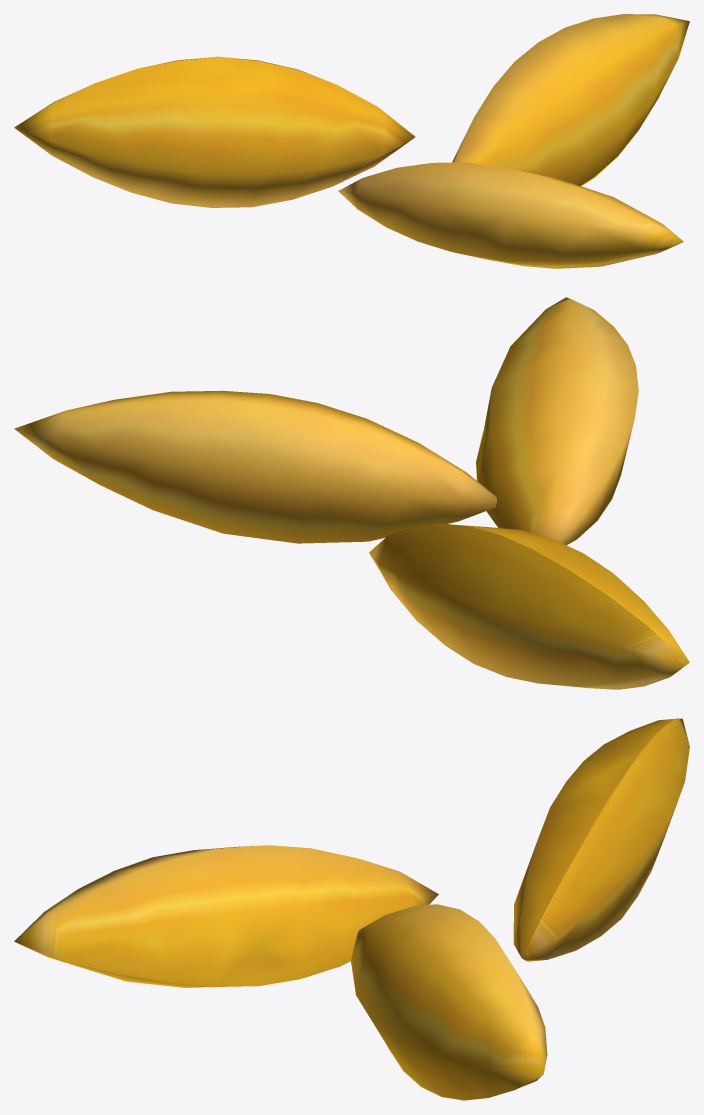
The model's file is NP_Rice_Seed_LOD1.fbx.
3 renders of one model, top to bottom at view 1: azimuth 30°, elevation 25°; view 2: azimuth 150°, elevation 25°; view 3: azimuth 270°, elevation 25°, orthographic. The views are drawn at different scales.
Parts seen in each view (by area): view 1: NP_Rice_Seed; view 2: NP_Rice_Seed; view 3: NP_Rice_Seed.
Part boxes in pixels (box(x1,y1,x2,y2)): NP_Rice_Seed: box(14, 14, 689, 268); NP_Rice_Seed: box(14, 297, 689, 689); NP_Rice_Seed: box(14, 718, 689, 1100).
Size of the model in its own units: 17.16 by 3.5 by 13.83.
